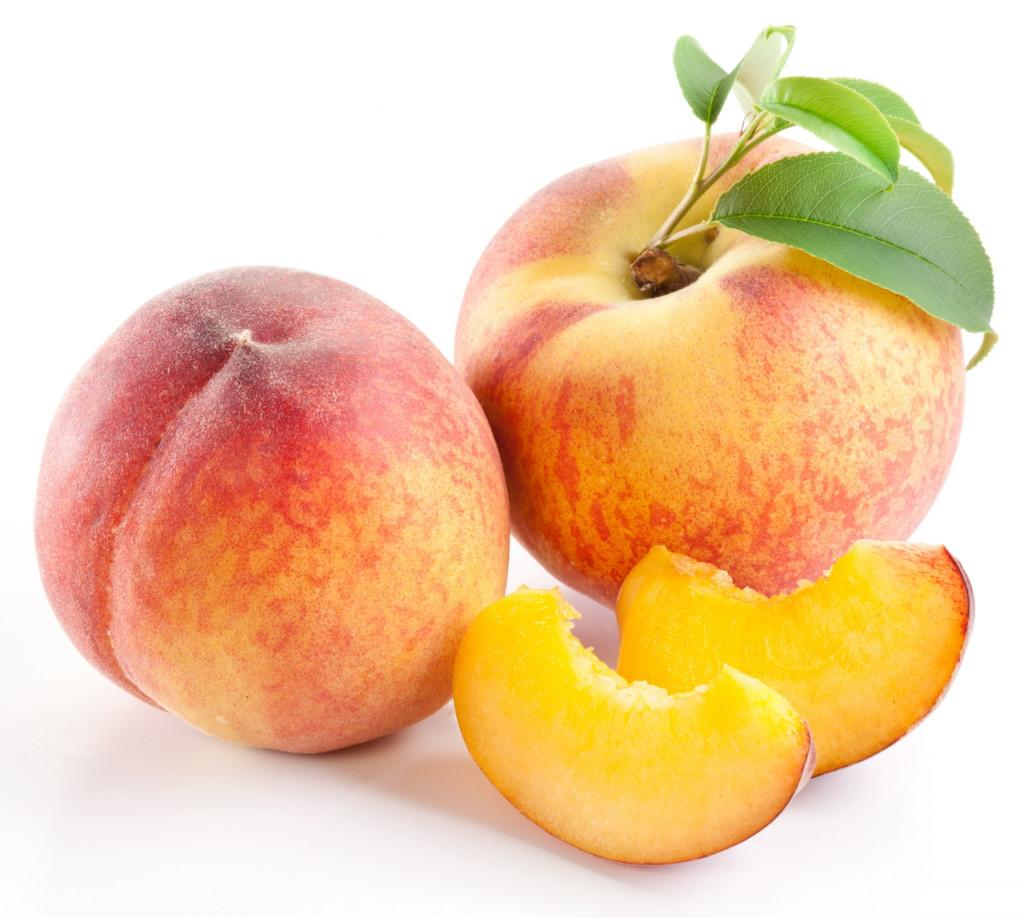Peach Ripe: (466, 142, 963, 605), (35, 267, 508, 752)
